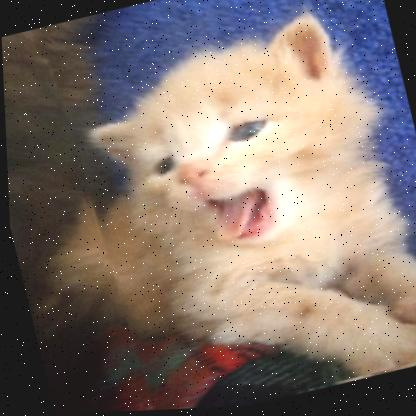cat: (45, 0, 416, 414)
